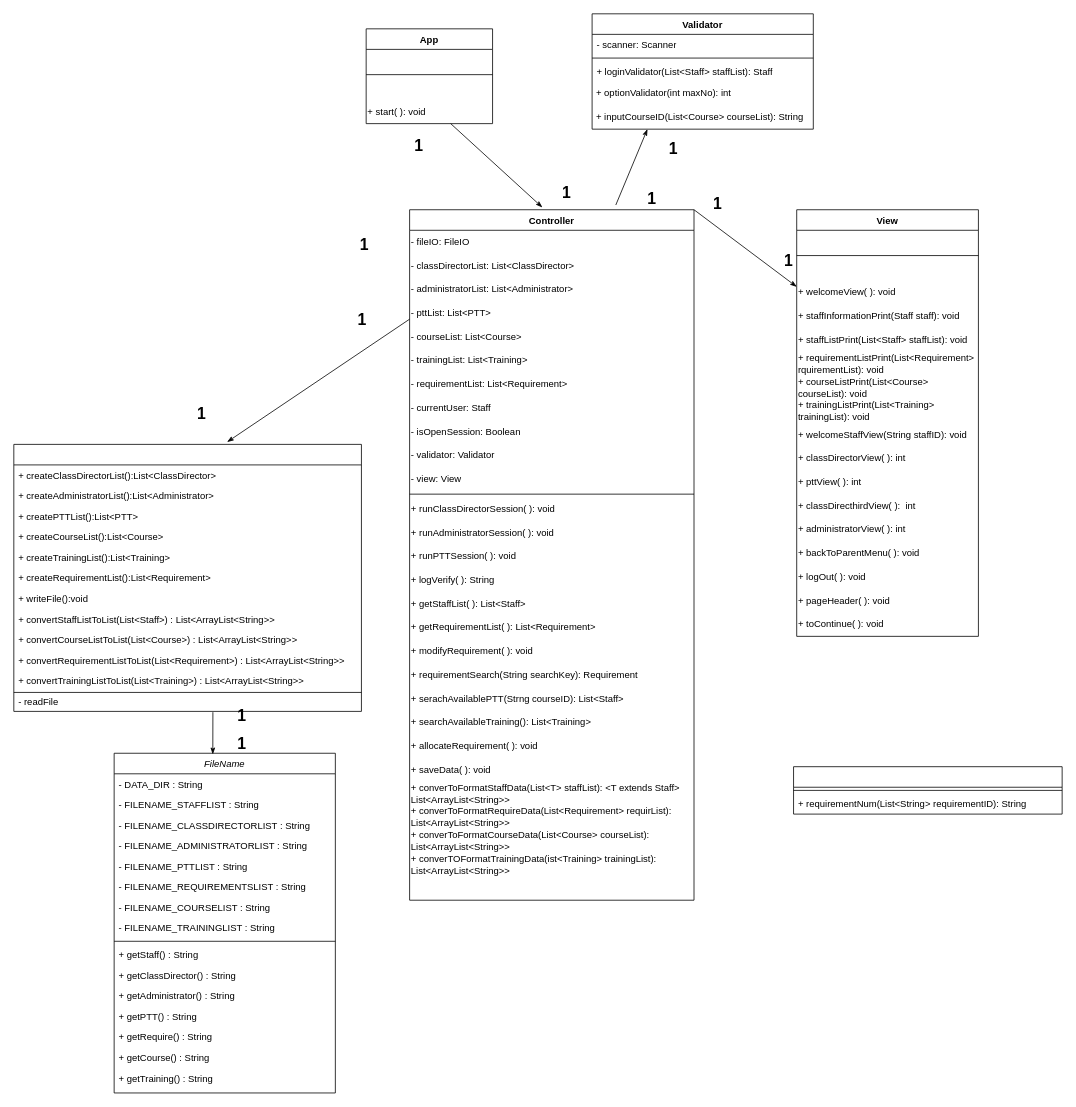
Some shapes in this 1076 by 1107 pixel diagram are drawn without their labels. Each missing label, with the box of its shape:
FileIO: (13, 444, 361, 711)
NumberGeneration: (793, 766, 1062, 814)
